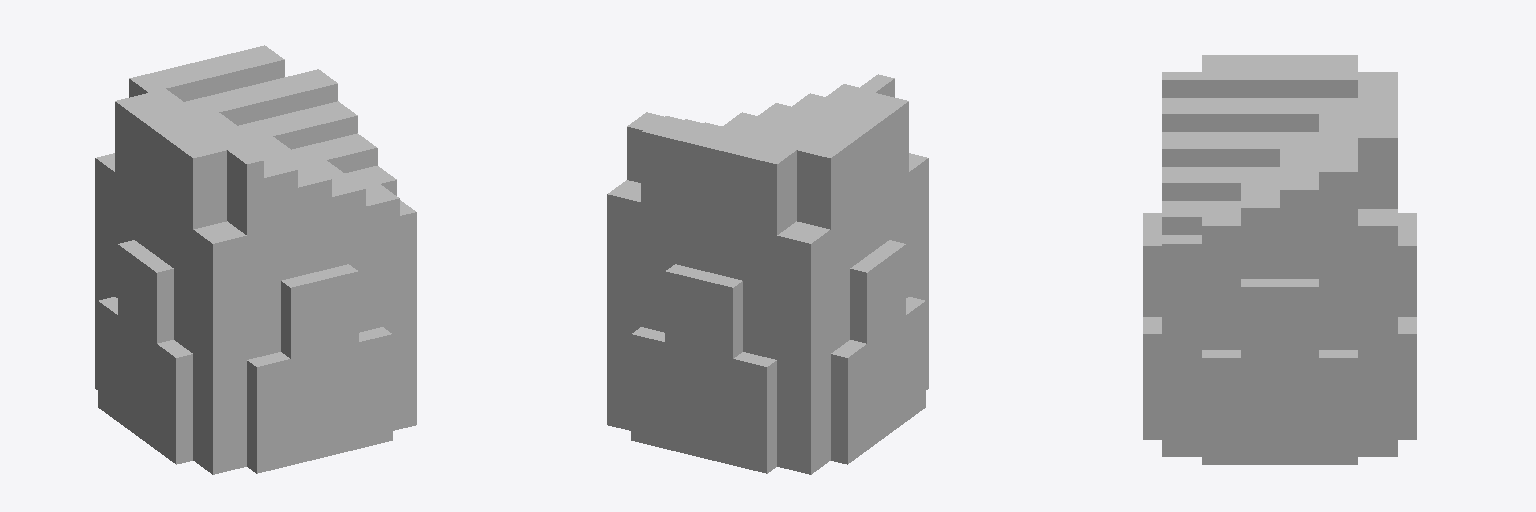
The model's file is Trunk 1.obj.
3 views of the same model, side by side, from view 1: azimuth 30°, elevation 25°; view 2: azimuth 150°, elevation 25°; view 3: azimuth 270°, elevation 25° (orthographic).
Parts seen in each view (by area): view 1: Trunk; view 2: Trunk; view 3: Trunk.
Part boxes in pixels (left/top/right/bottom): Trunk: left=95, top=45, right=416, bottom=474; Trunk: left=607, top=74, right=928, bottom=474; Trunk: left=1143, top=55, right=1416, bottom=464.
Size of the model in its own units: 14 by 17 by 14.